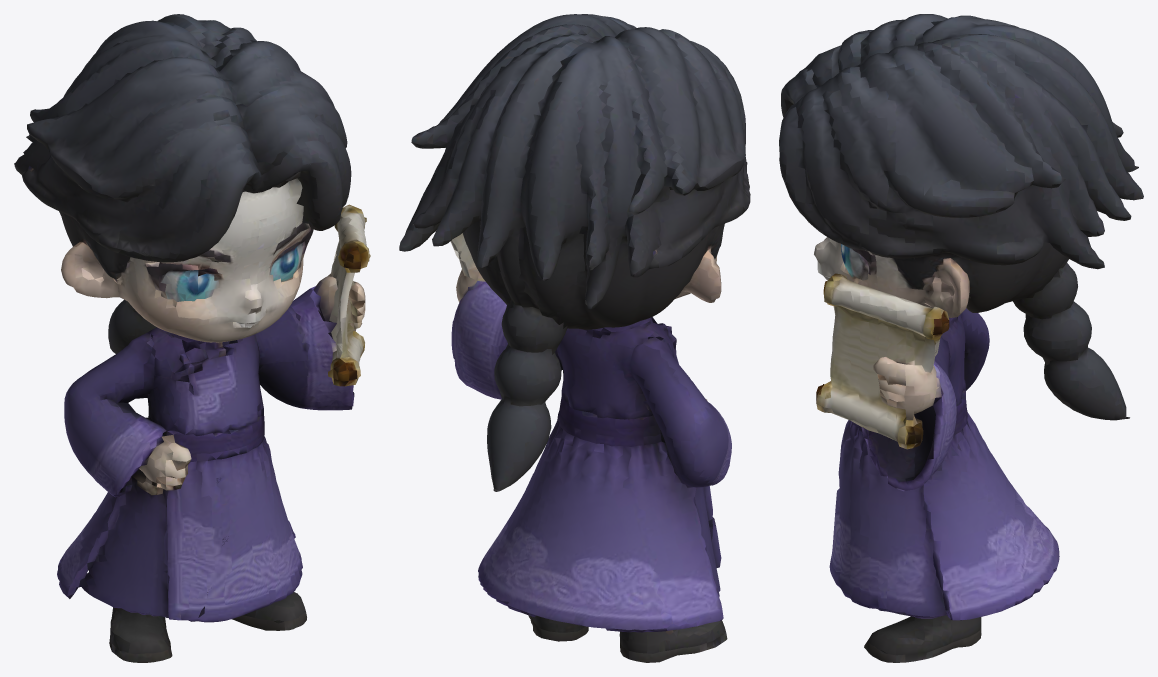
File: hejilagen.glb
3 views of the same model, side by side, from view 1: azimuth 30°, elevation 25°; view 2: azimuth 150°, elevation 25°; view 3: azimuth 270°, elevation 25° (orthographic). The views are drawn at different scales.
Bounding box in the file's own units: 1.42 × 2.7 × 1.5.
1 material, 1 textured.
